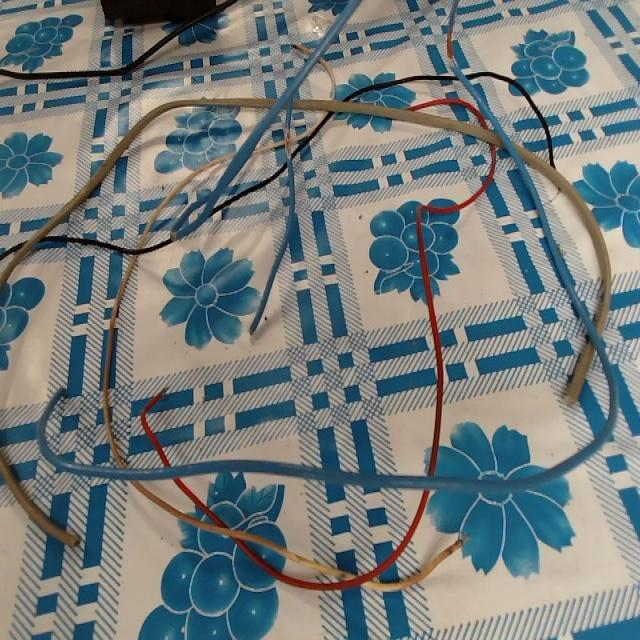-: (443, 23, 462, 65), (282, 125, 295, 163), (454, 529, 476, 547), (155, 380, 172, 399), (168, 223, 178, 244)
